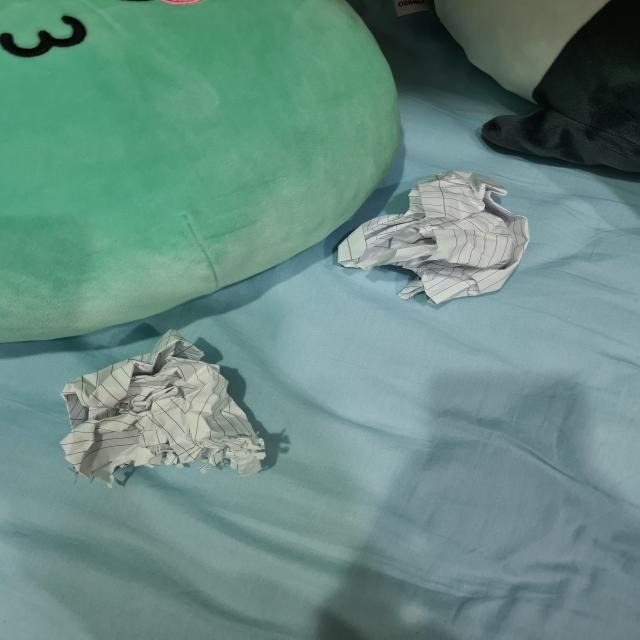paper: (66, 337, 277, 483), (339, 173, 535, 305)
